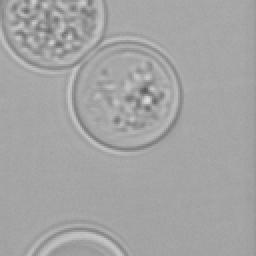picoshell: (66, 36, 180, 152), (26, 220, 126, 254)
